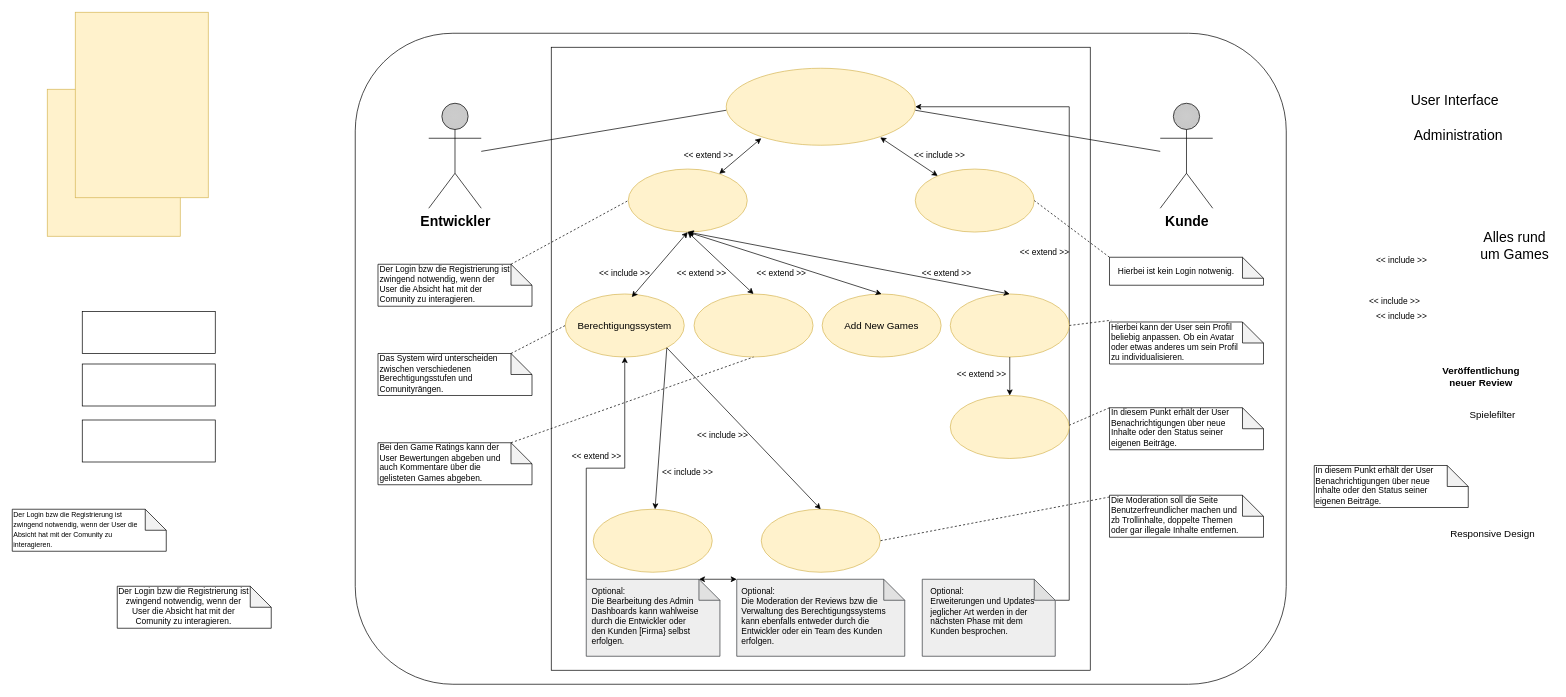
The diagram is 1566 pixels wide and 697 high, and some of its shapes have lost their labels. The shapes that lost their labels are listed below. From the top down, each one's centre as x and y in pixels, then its label:
At point (820, 106): "GameScoreHub".
At point (687, 200): "User Registration / Login".
At point (974, 200): "nach Spielen und Kategorien suchen".
At point (753, 325): "Games Rating".
At point (1009, 325): "User Profile Management".
At point (1009, 426): "Notfication System".
At point (652, 540): "Admin Dashboard".
At point (820, 540): "Review Moderation".
